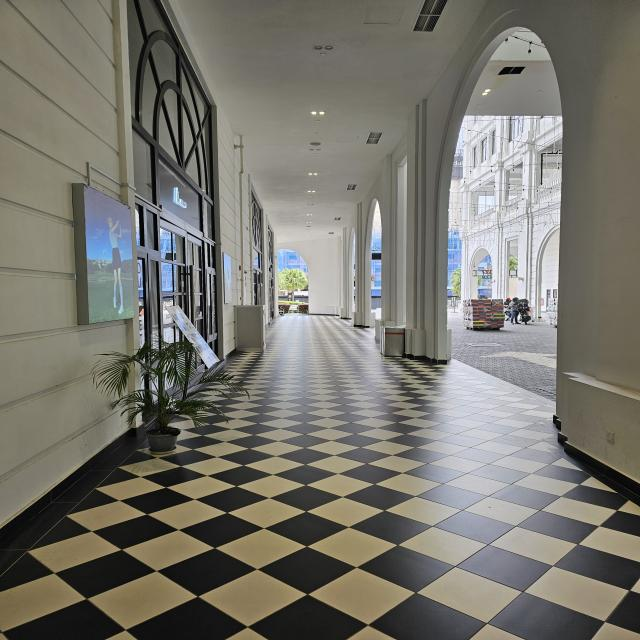footpath: (220, 377, 538, 639)
obstacle: (121, 322, 208, 452), (225, 300, 270, 354), (378, 316, 408, 358)
wall: (546, 128, 640, 489), (404, 245, 459, 366)
